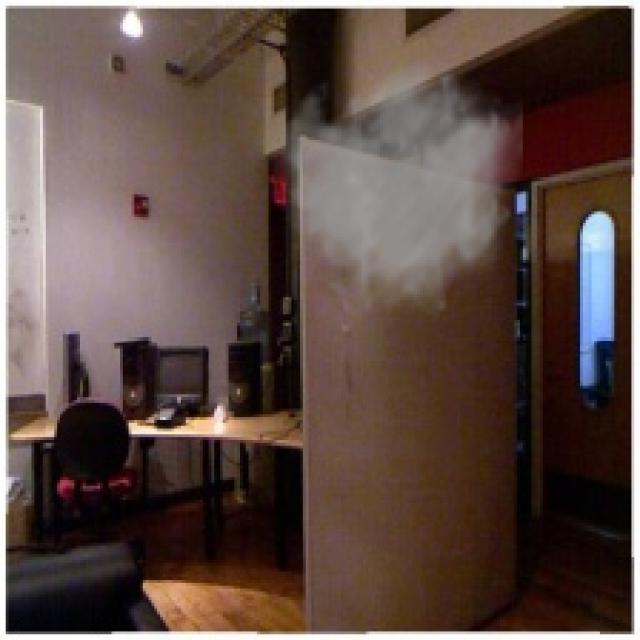smoke: (263, 54, 523, 323)
